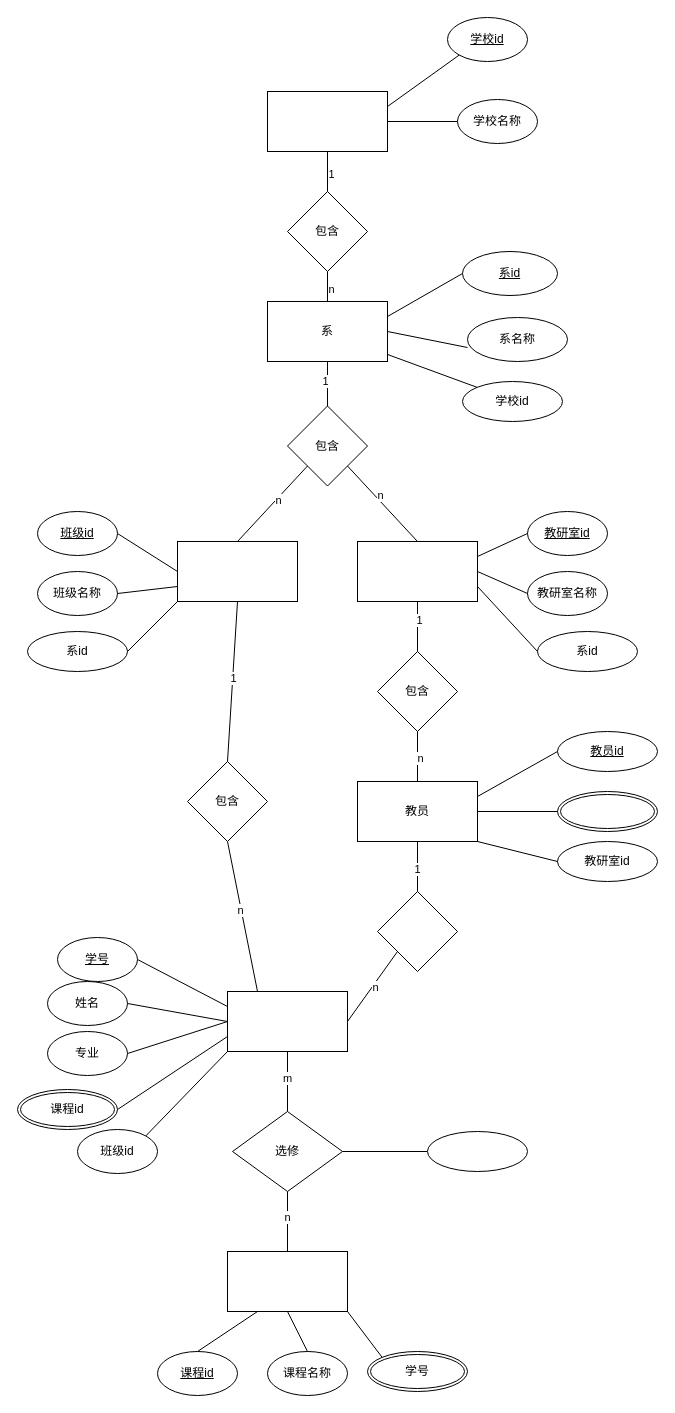
Image size: 675x1413. Some labels were removed from this diagram. The shapes that lost their labels are listed below. From the top down, each one's centre as x and y in pixels, then its label:
At (x=327, y=121): "学校".
At (x=237, y=571): "班级".
At (x=417, y=571): "教研室".
At (x=607, y=811): "职称".
At (x=417, y=931): "带领".
At (x=287, y=1021): "学生".
At (x=477, y=1151): "成绩".
At (x=287, y=1281): "课程".
